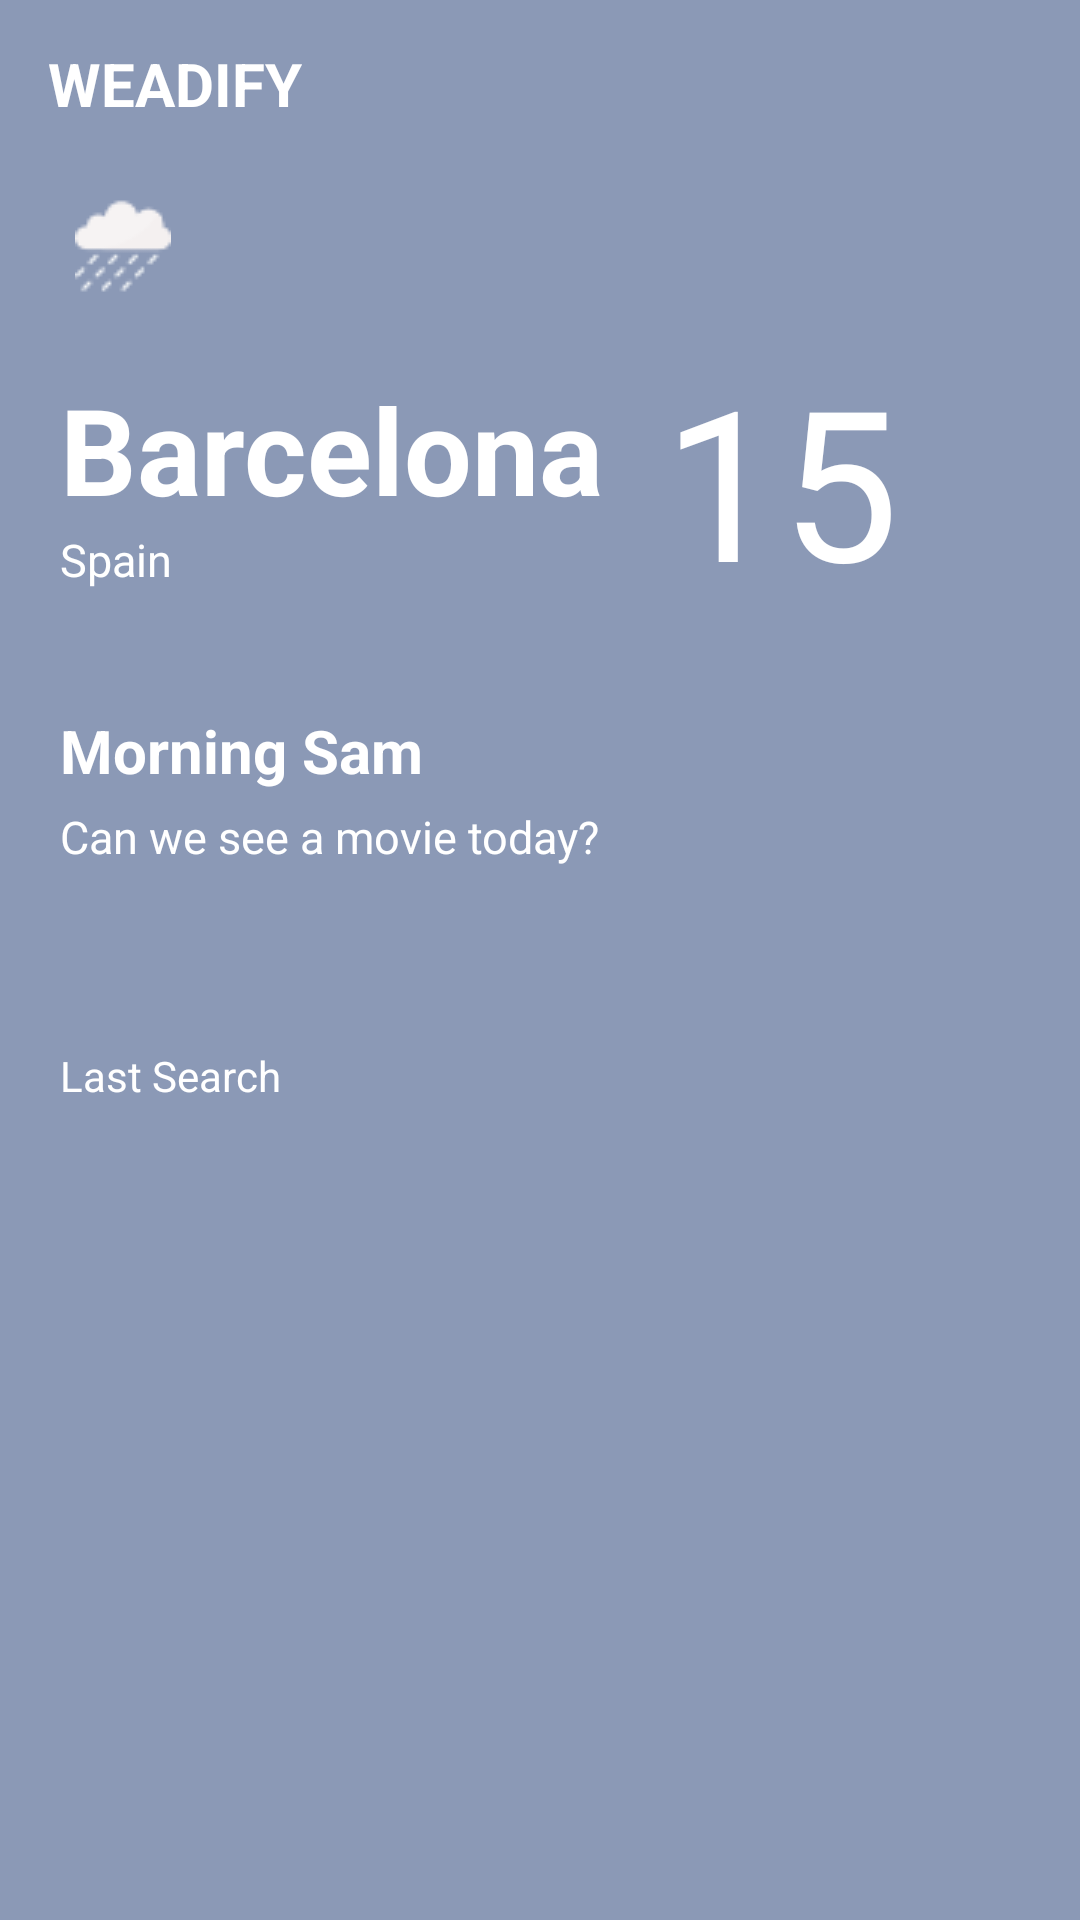

Point at icon controls on the screen. Image size 1080px×1920px, points as (x,y).
rainy: (123,246)
